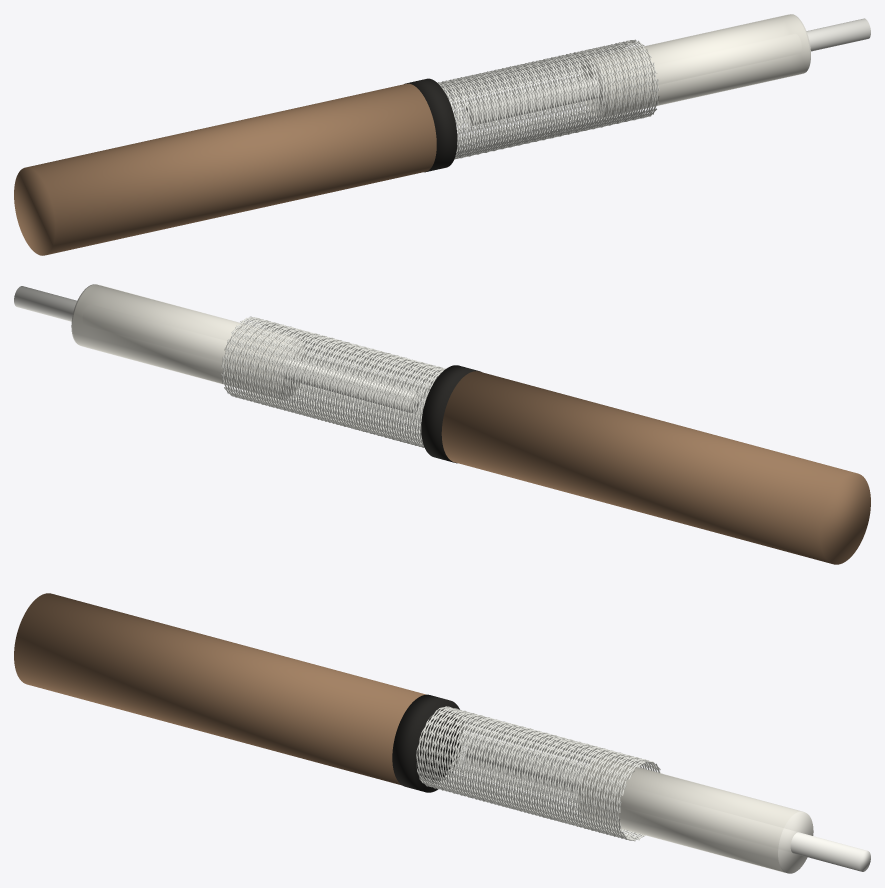
The picture shows the model from 3 angles, top to bottom: view 1: azimuth 30°, elevation 25°; view 2: azimuth 150°, elevation 25°; view 3: azimuth 330°, elevation 25°; orthographic projection. The views are drawn at different scales.
Visible parts, largest first — view 1: matte black pvc jacket body, gas injected foam dielectric, smooth dielectric skin, solid center conductor continuous, jacket cut lip, braid left hand carrier 08, braid left hand carrier 09, braid left hand carrier 05, braid left hand carrier 06, braid left hand carrier 11, braid left hand carrier 12, braid right hand carrier 04 (+21 smaller); view 2: matte black pvc jacket body, gas injected foam dielectric, smooth dielectric skin, solid center conductor continuous, jacket cut lip, braid left hand carrier 05, braid left hand carrier 02, braid left hand carrier 03, braid left hand carrier 14, braid left hand carrier 06, braid left hand carrier 08, braid left hand carrier 12 (+21 smaller); view 3: matte black pvc jacket body, gas injected foam dielectric, smooth dielectric skin, jacket cut lip, solid center conductor continuous, braid left hand carrier 09, braid left hand carrier 08, braid left hand carrier 06, braid left hand carrier 05, braid left hand carrier 11, braid left hand carrier 03, braid left hand carrier 02 (+21 smaller).
Part boxes in pixels (x1,y1,x2,y2): matte black pvc jacket body: (14,83,436,255); gas injected foam dielectric: (581,14,810,117); smooth dielectric skin: (580,14,809,117); solid center conductor continuous: (465,18,870,125); jacket cut lip: (404,78,457,172); braid left hand carrier 08: (446,40,647,158); braid left hand carrier 09: (449,40,650,159); braid left hand carrier 05: (442,41,640,154); braid left hand carrier 06: (442,40,642,153); braid left hand carrier 11: (454,45,655,158); braid left hand carrier 12: (456,45,658,158); braid right hand carrier 04: (440,42,658,155); matte black pvc jacket body: (441,371,870,564); gas injected foam dielectric: (71,284,306,399); smooth dielectric skin: (73,284,307,398); solid center conductor continuous: (14,286,419,413); jacket cut lip: (421,365,480,463); braid left hand carrier 05: (222,320,445,443); braid left hand carrier 02: (230,322,440,445); braid left hand carrier 03: (227,321,442,444); braid left hand carrier 14: (235,323,438,447); braid left hand carrier 06: (221,319,444,442); braid left hand carrier 08: (231,318,440,441); braid left hand carrier 12: (240,324,440,446); matte black pvc jacket body: (14,593,425,785); gas injected foam dielectric: (579,758,813,873); smooth dielectric skin: (577,758,802,872); jacket cut lip: (392,694,462,792); solid center conductor continuous: (466,745,870,871); braid left hand carrier 09: (428,713,644,836); braid left hand carrier 08: (426,712,653,835); braid left hand carrier 06: (421,711,660,834); braid left hand carrier 05: (418,710,657,833); braid left hand carrier 11: (433,714,634,837); braid left hand carrier 03: (416,708,652,832); braid left hand carrier 02: (421,708,650,840).
Size of the model in its own units: 6.51 by 0.6312 by 0.7939.
